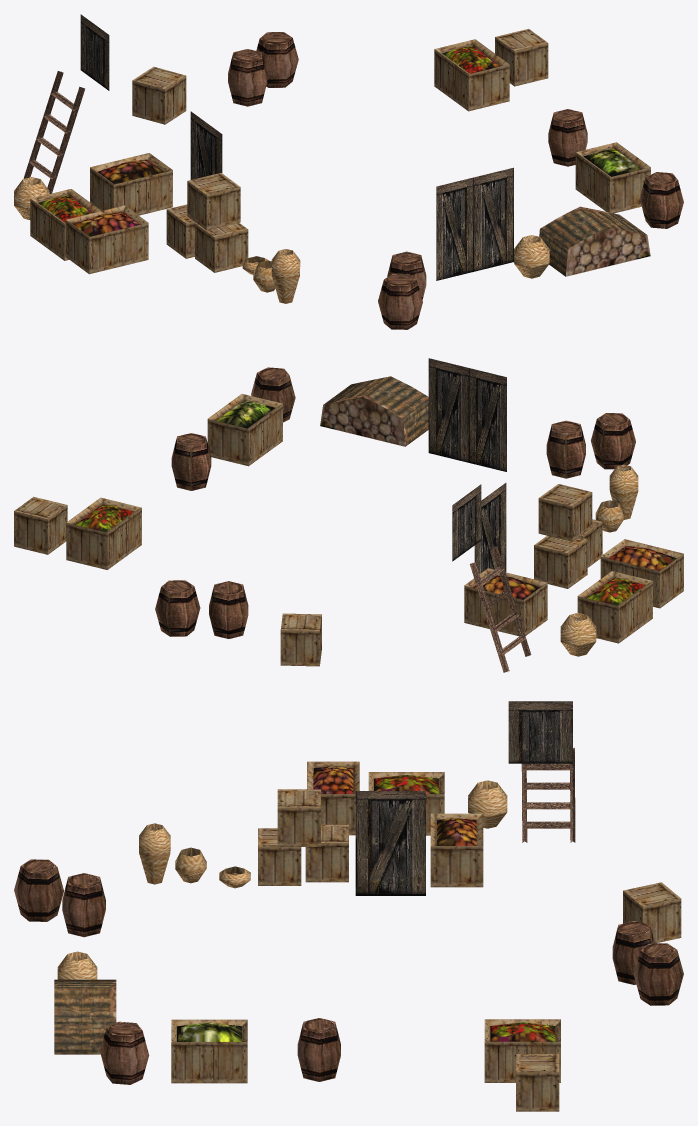
Rendered from celt_civic3_props_1.dae.
The picture shows the model from 3 angles, top to bottom: view 1: azimuth 30°, elevation 25°; view 2: azimuth 150°, elevation 25°; view 3: azimuth 270°, elevation 25°; orthographic projection. The views are drawn at different scales.
Visible parts, largest first — view 1: default13; view 2: default13; view 3: default13.
Boxes of the visible parts, x1=… form: default13: x1=14, y1=14, x2=683, y2=329; default13: x1=14, y1=358, x2=683, y2=672; default13: x1=14, y1=701, x2=683, y2=1111.
Size of the model in its own units: 24.57 by 23.19 by 6.52.
